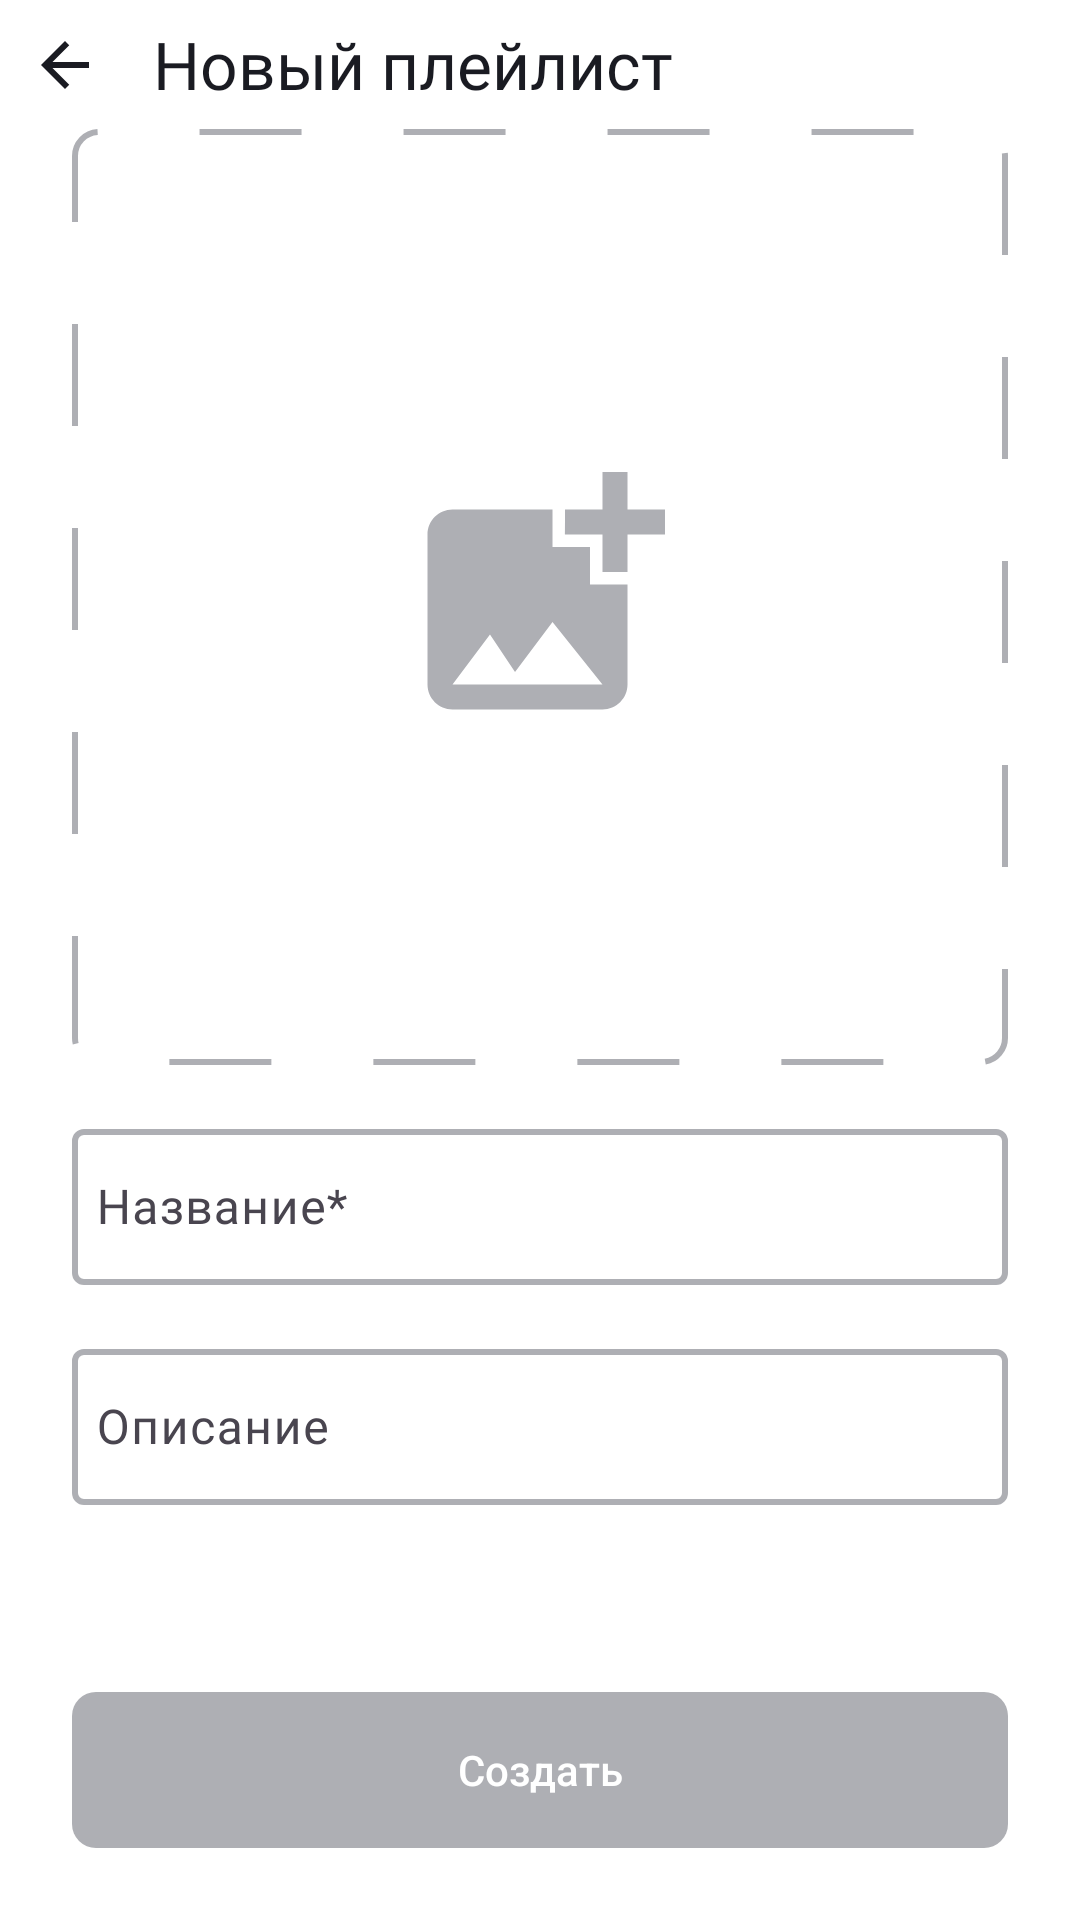

Named icons in this screenshot (1080x1920) and their centers, (x,y):
Назад: (65,65)
